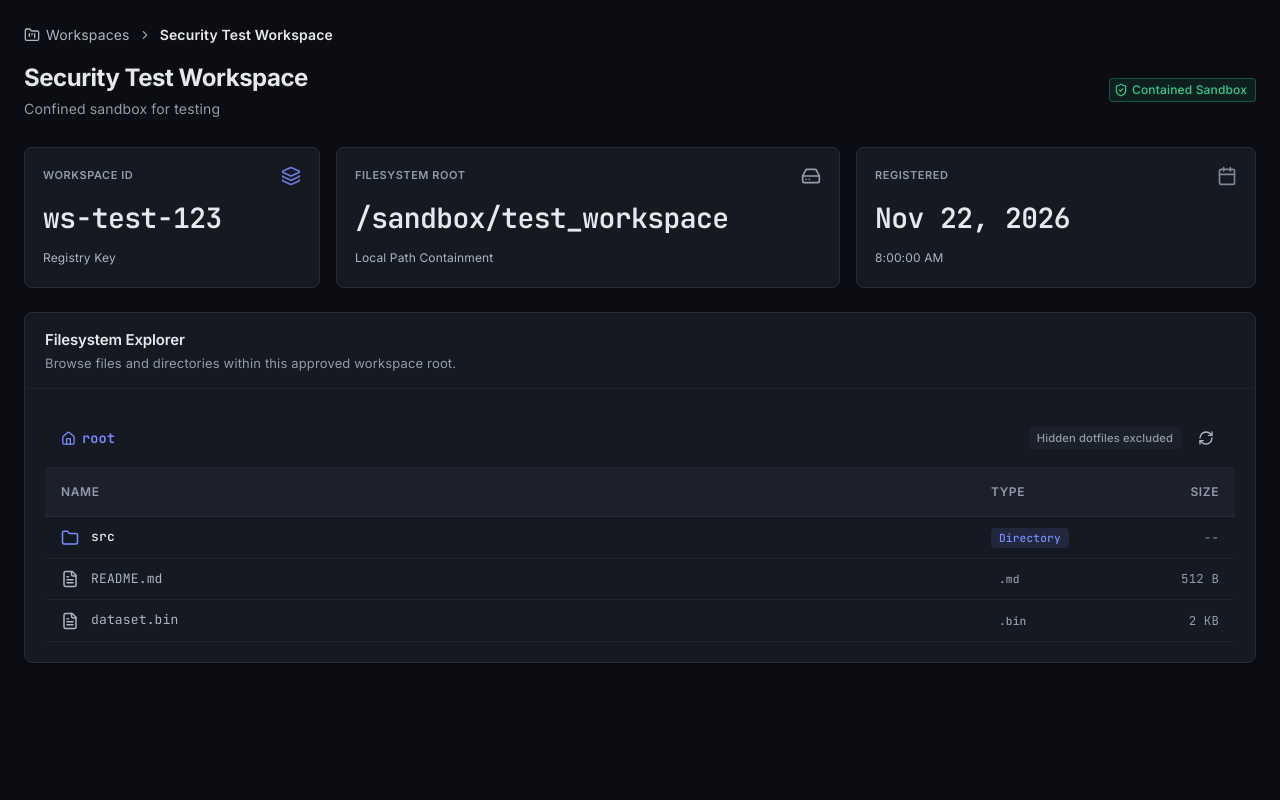
Test case: WorkspaceDetailPage & FileBrowser Integration (M9.7.1) › supports directory navigation into subfolder and back via breadcrumbs
# Click on 'src' folder row
Click the text "src".
click(103, 538)  # box [91,528,115,547]
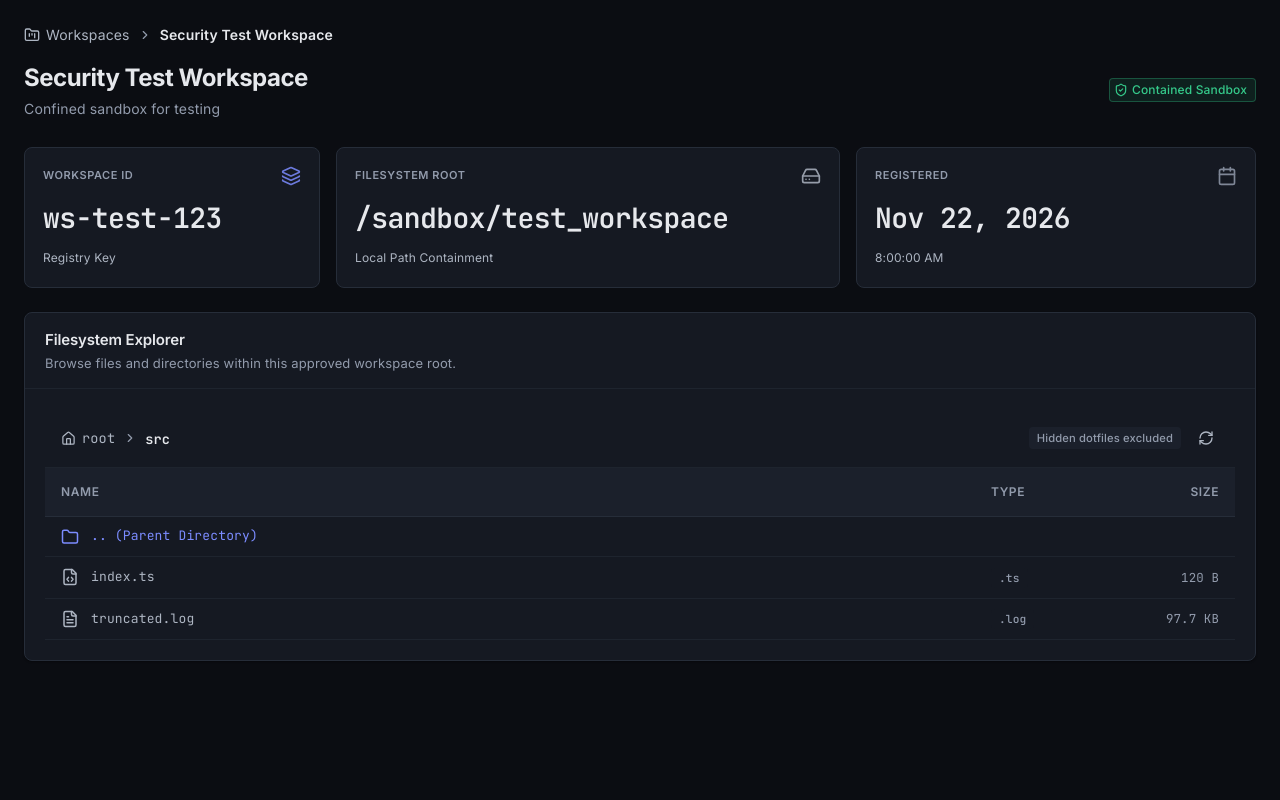
Check: the text "index.ts" is shown, box [91,568,155,587]
Check: the text "truncated.log" is shown, box [91,610,194,628]
Check: the text ".. (Parent Directory)" is shown, box [91,527,258,546]
# Click breadcrumb root to return
Click the button "root".
click(88, 438)  # box [61,428,115,449]
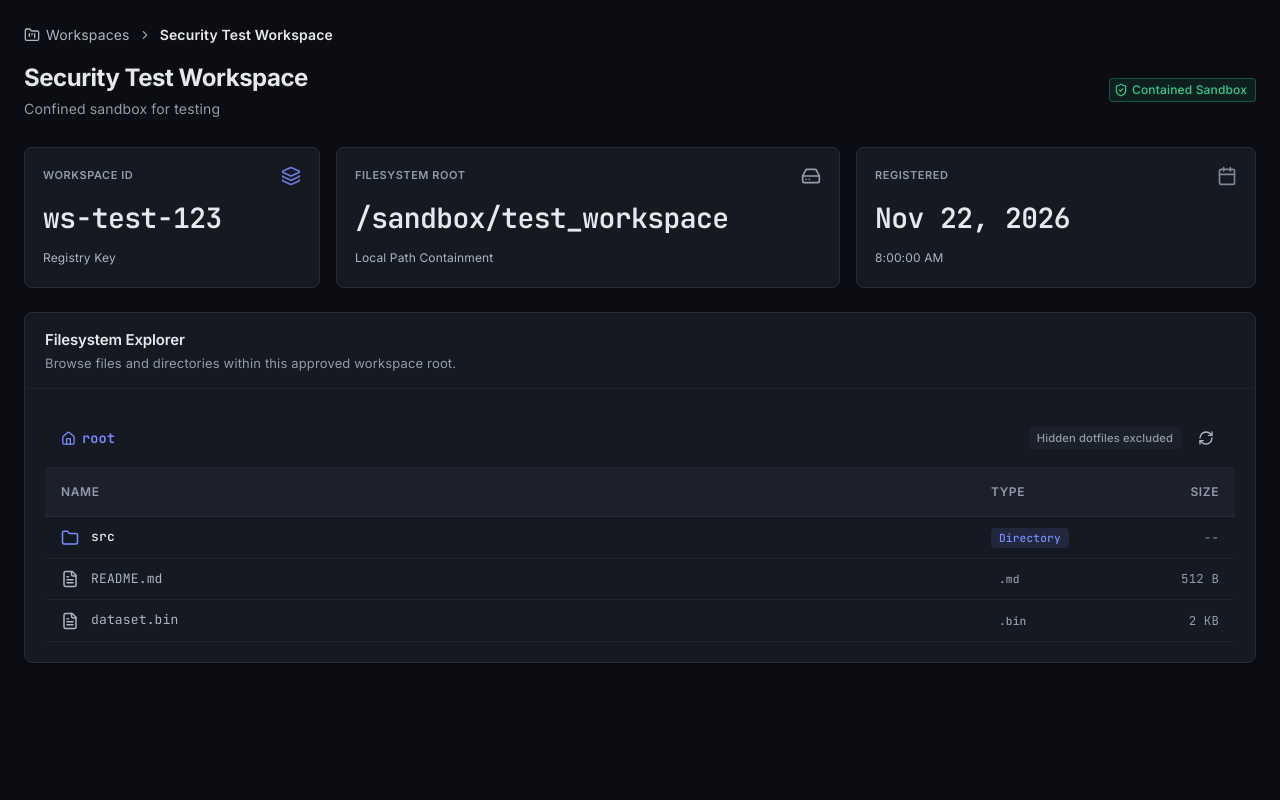
Check: the text "README.md" is shown, box [91,570,163,588]
